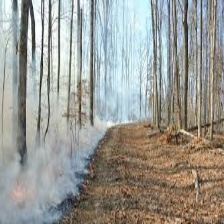smoke: (1, 101, 114, 222)
